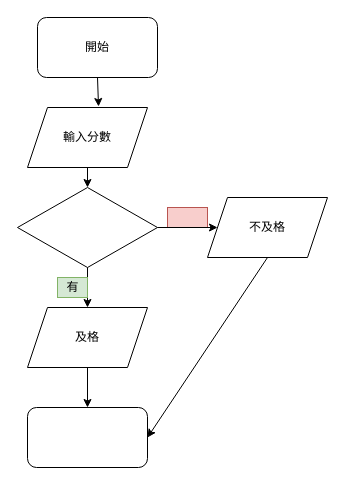
Image size: 345x485. Some labels were removed from this diagram. The centre of each missing label's shape, as x and y in pixels:
"有沒有及格" belongs at point (87, 227).
"沒有" belongs at point (187, 217).
"結束" belongs at point (87, 437).
